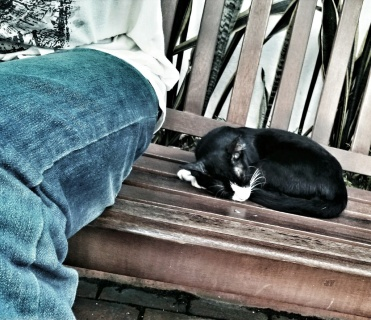Cat: (176, 127, 345, 218)
